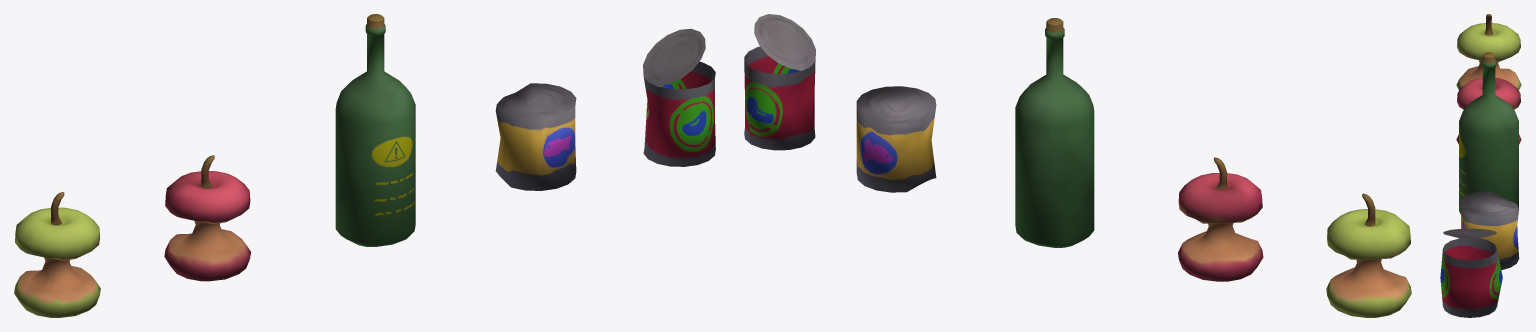
The model's file is garbage_asset.fbx.
The picture shows the model from 3 angles, left to right: view 1: azimuth 30°, elevation 25°; view 2: azimuth 150°, elevation 25°; view 3: azimuth 270°, elevation 25°; orthographic projection. The views are drawn at different scales.
Visible parts, largest first — view 1: glasses5, glasses4, glasses2, glasses3, glasses1; view 2: glasses5, glasses4, glasses2, glasses3, glasses1; view 3: glasses5, glasses4, glasses2, glasses3, glasses1.
Part boxes in pixels (x1,y1,x2,y2): glasses5: [335, 14, 415, 246]; glasses4: [643, 28, 715, 166]; glasses2: [495, 83, 576, 190]; glasses3: [14, 192, 100, 317]; glasses1: [164, 155, 250, 281]; glasses5: [1015, 18, 1094, 247]; glasses4: [744, 14, 815, 150]; glasses2: [856, 86, 936, 192]; glasses3: [1326, 193, 1411, 317]; glasses1: [1178, 157, 1263, 281]; glasses5: [1459, 52, 1518, 214]; glasses4: [1440, 228, 1502, 317]; glasses2: [1459, 191, 1519, 270]; glasses3: [1456, 14, 1521, 89]; glasses1: [1456, 78, 1521, 144].
Bounding box in the file's own units: 172 × 52.62 × 23.97.
1 material, 1 textured.
